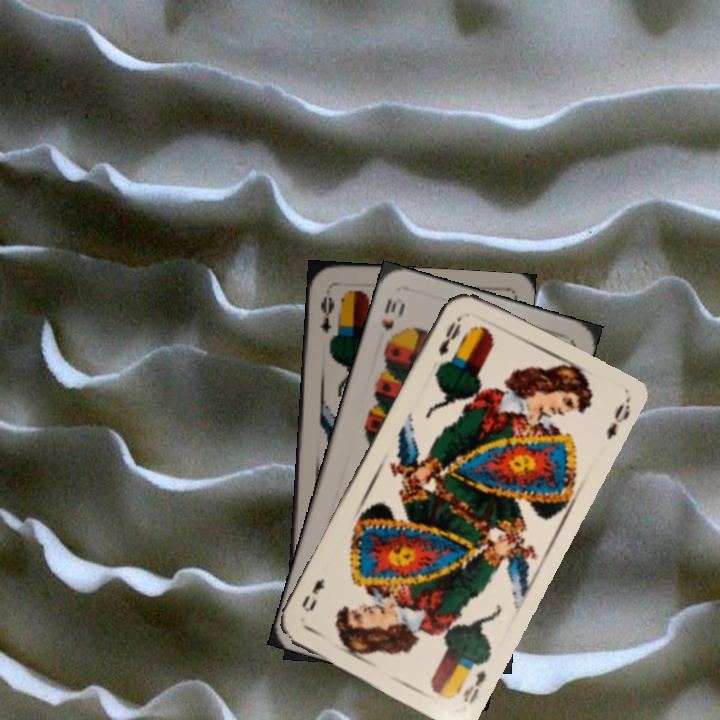EO: (434, 311, 465, 359), (459, 665, 489, 707), (316, 293, 337, 336)
S10: (377, 294, 406, 349)
